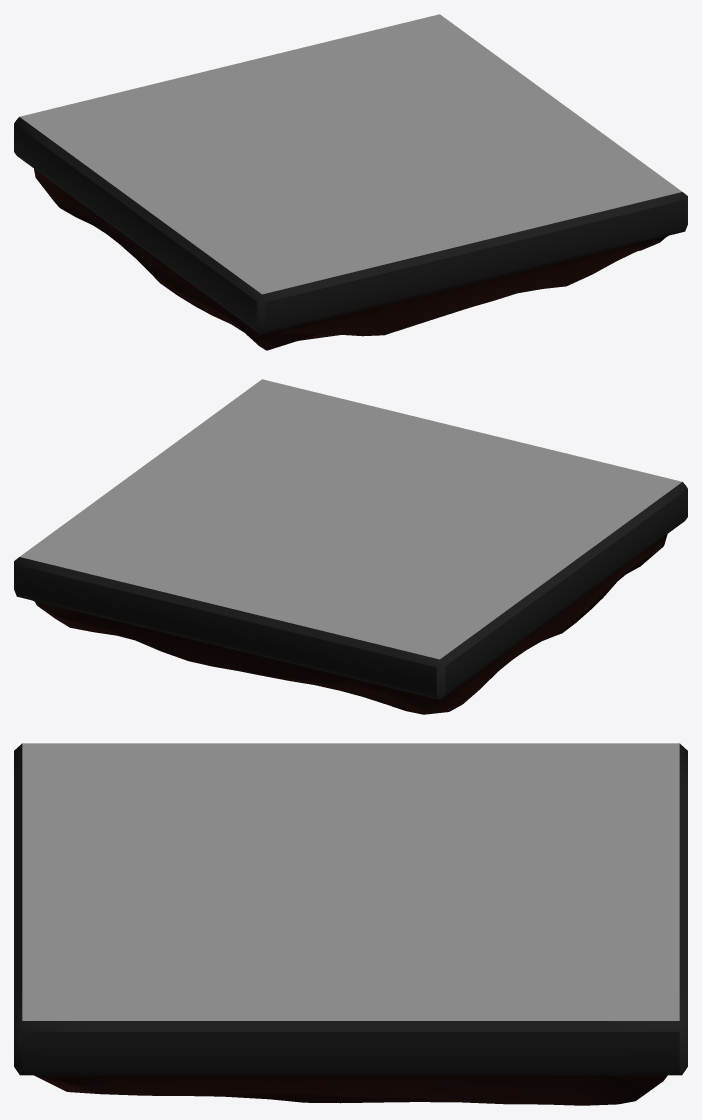
File: MET_Platforme_Petit_Pierre_01_LOD0.fbx
3 views of the same model, one above another, from view 1: azimuth 30°, elevation 25°; view 2: azimuth 150°, elevation 25°; view 3: azimuth 270°, elevation 25° (orthographic). The views are drawn at different scales.
Visible parts, largest first — view 1: MET_Platforme_Petit_Pierre_01_LOD0; view 2: MET_Platforme_Petit_Pierre_01_LOD0; view 3: MET_Platforme_Petit_Pierre_01_LOD0.
Boxes of the visible parts, left/top/right/bottom form: MET_Platforme_Petit_Pierre_01_LOD0: left=14, top=14, right=687, bottom=350; MET_Platforme_Petit_Pierre_01_LOD0: left=14, top=379, right=687, bottom=714; MET_Platforme_Petit_Pierre_01_LOD0: left=14, top=743, right=687, bottom=1105.
Bounding box in the file's own units: 400 × 80.23 × 400.
